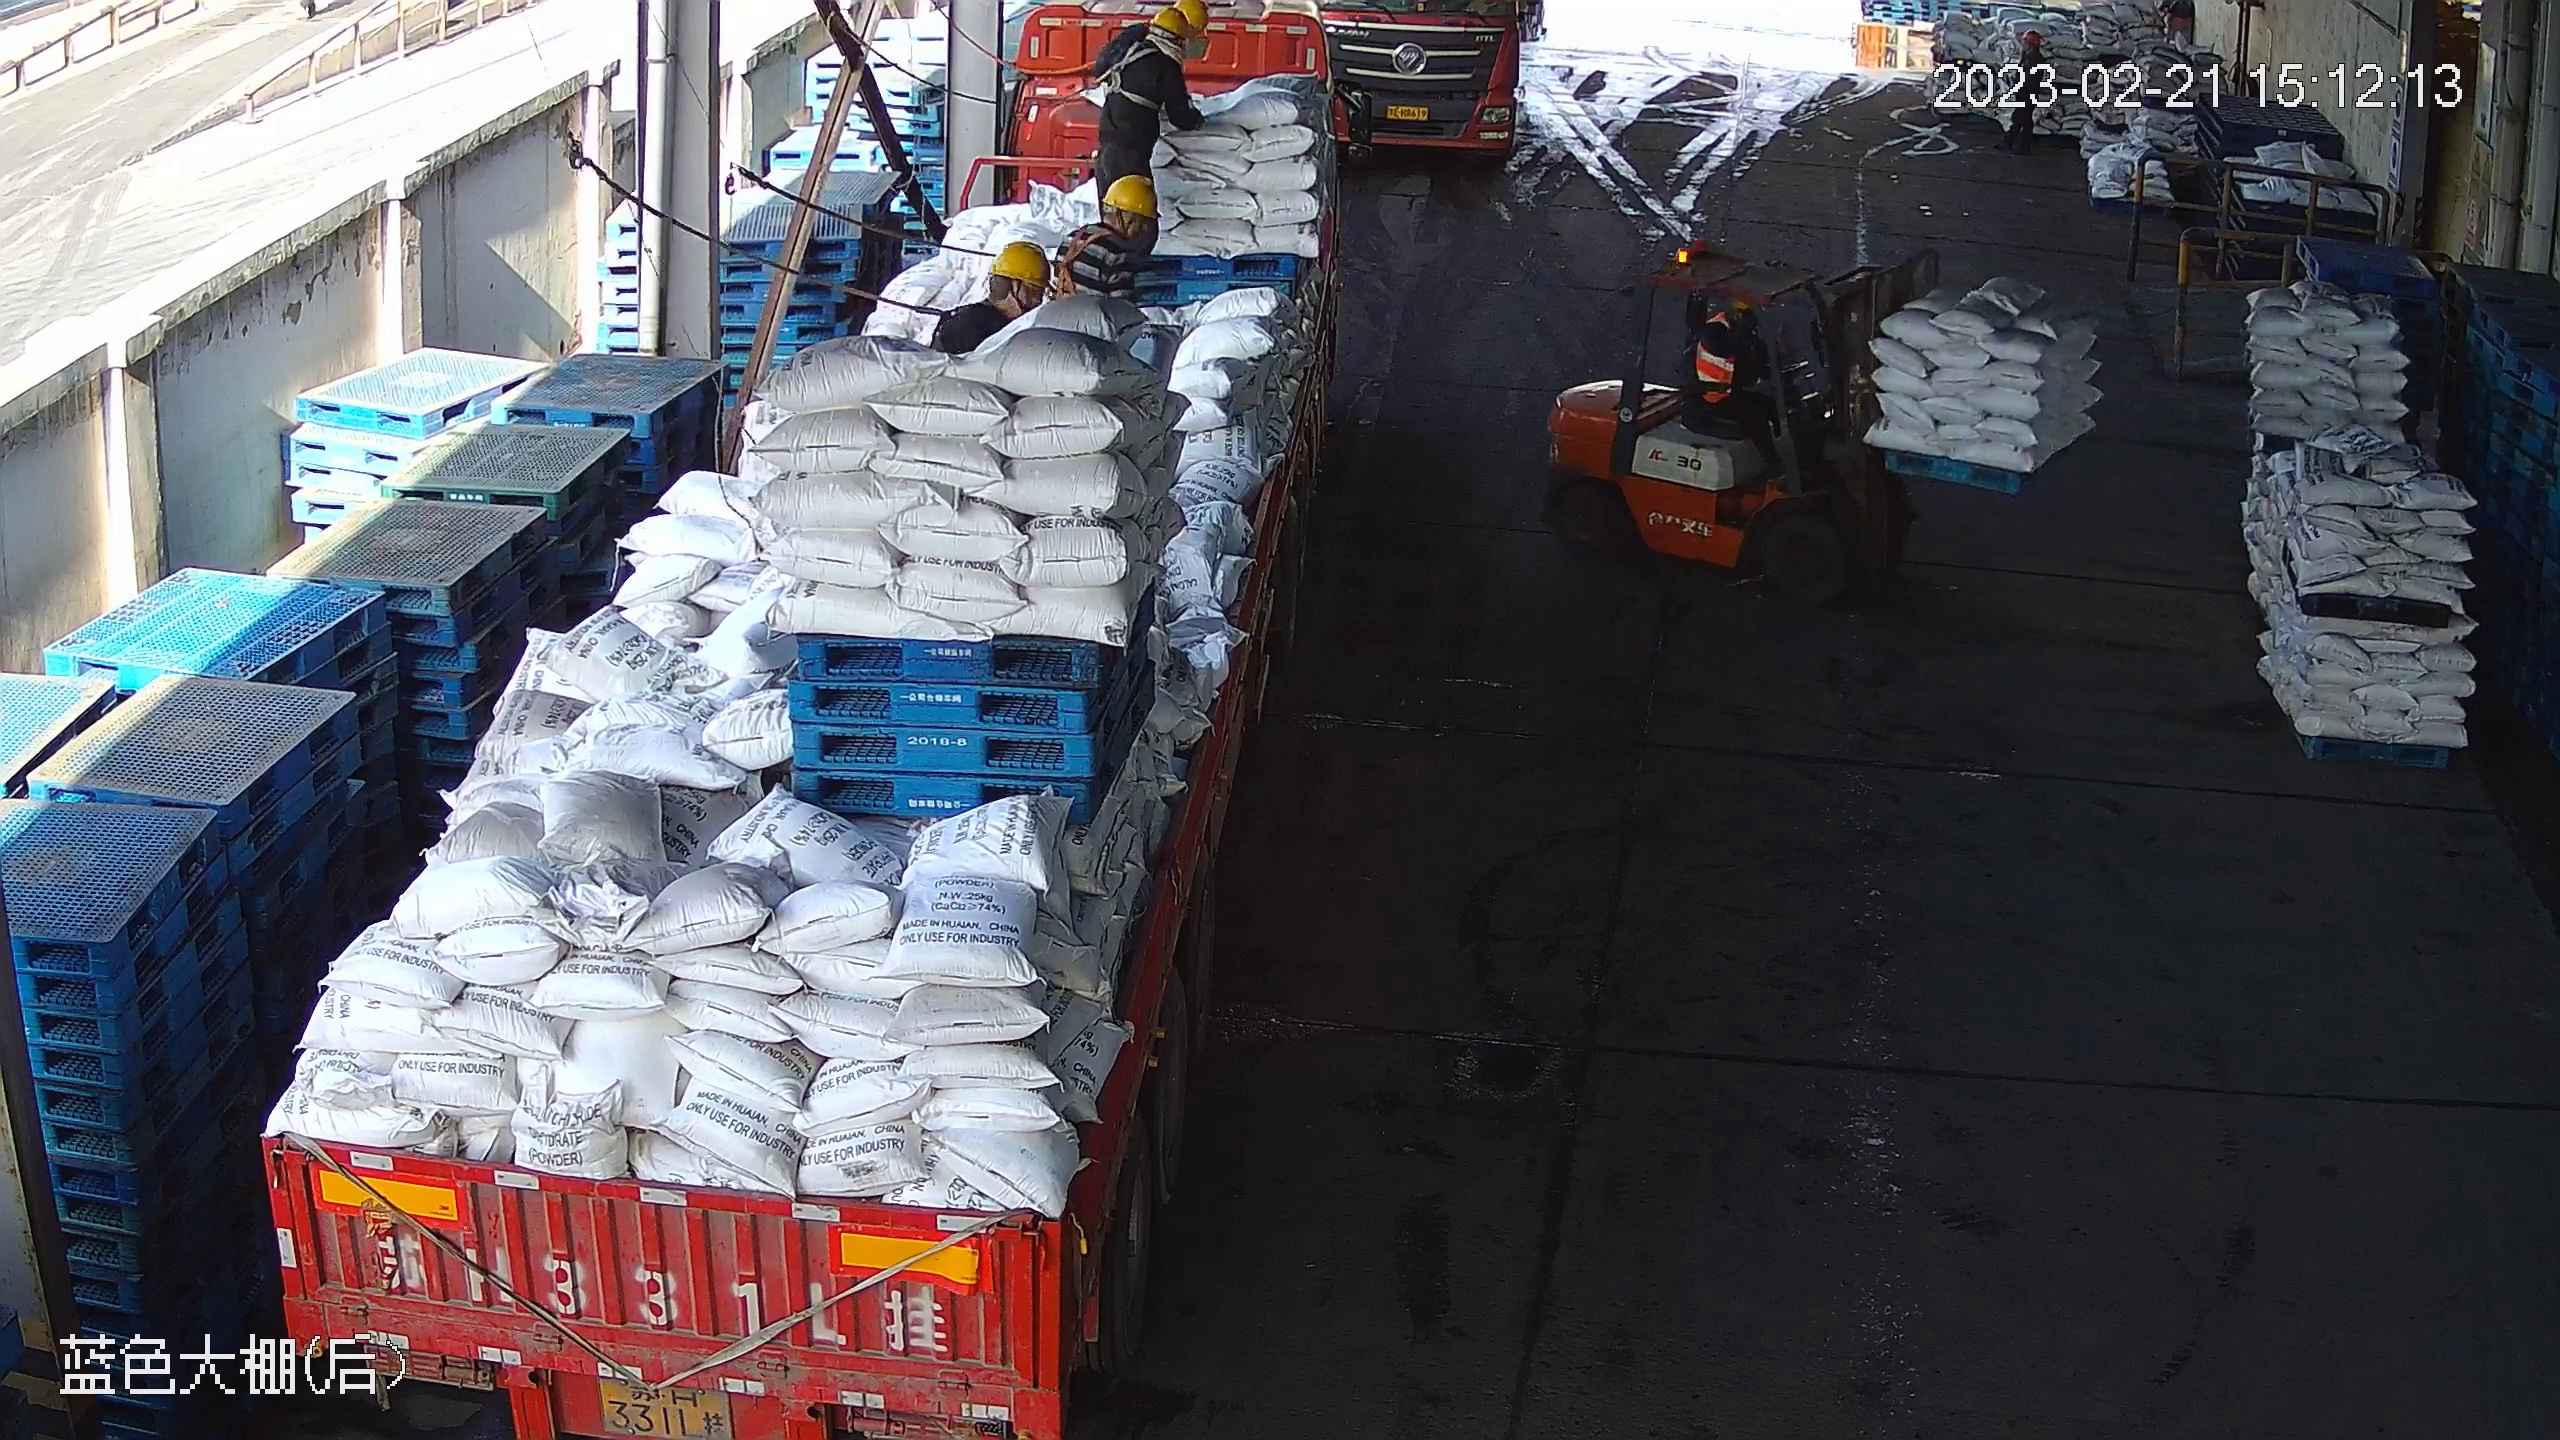belt: (1058, 223, 1113, 300), (1102, 41, 1161, 111)
head: (1054, 173, 1164, 263), (1119, 8, 1191, 82)
helmet: (989, 241, 1050, 287), (1100, 175, 1162, 218), (1150, 7, 1191, 38), (1174, 1, 1210, 29)
people: (1098, 8, 1205, 200), (1695, 300, 1787, 470)
truck: (258, 1, 1371, 1440)
